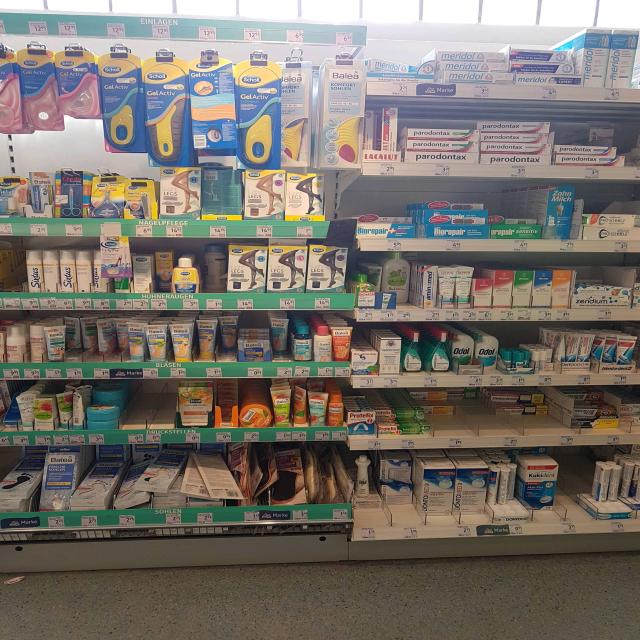unorganised: (113, 446, 243, 512), (245, 447, 351, 512), (418, 388, 572, 431), (52, 316, 128, 362), (353, 462, 385, 523), (383, 464, 417, 518), (383, 249, 414, 308), (597, 459, 626, 515), (201, 245, 226, 293), (369, 56, 432, 75), (215, 378, 237, 427), (57, 390, 83, 429), (216, 317, 236, 362), (269, 320, 289, 364), (154, 252, 173, 295), (194, 322, 214, 362), (572, 389, 617, 406), (291, 383, 308, 427), (596, 334, 617, 367), (364, 111, 380, 150), (555, 332, 567, 371)
